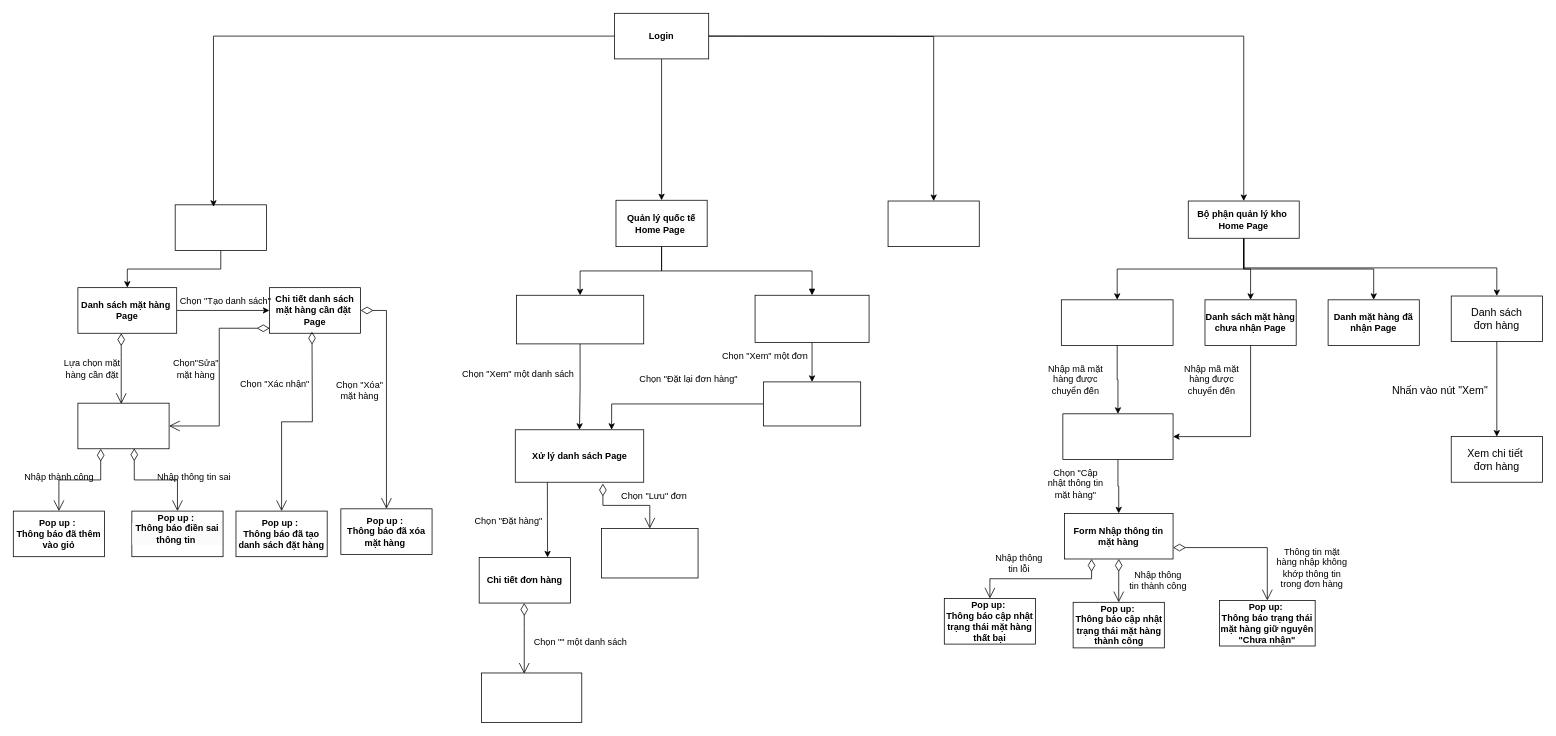
Image size: 1556x736. Some labels were removed from this diagram. The box of each missing label's shape, as (x1, y1, x2, y2) in pixels:
Chi tiết đơn bị hủy Page: (763, 381, 861, 426)
Danh sách mặt hàng cần nhận Page: (1061, 299, 1173, 345)
Danh sách mặt hàng trùng mã: (1062, 413, 1173, 459)
List DSMHCD Page: (516, 294, 644, 344)
List đơn bị hủy Page: (754, 294, 869, 342)
Nhập thông tin mặt hàng: (77, 402, 169, 449)
Pop up : Thông báo đã thêm vào đơn: (601, 528, 698, 578)
Pop up : Thông báo đặt hàng thành công: (481, 672, 582, 722)
Sale Home Page: (174, 204, 266, 250)
Site Home Page: (887, 200, 979, 247)
